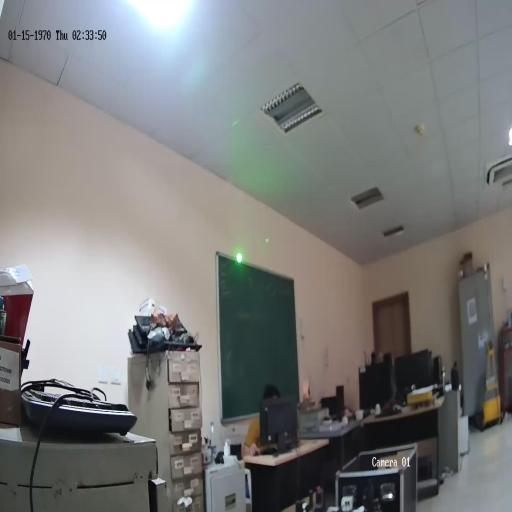laser: (236, 251, 242, 264)
